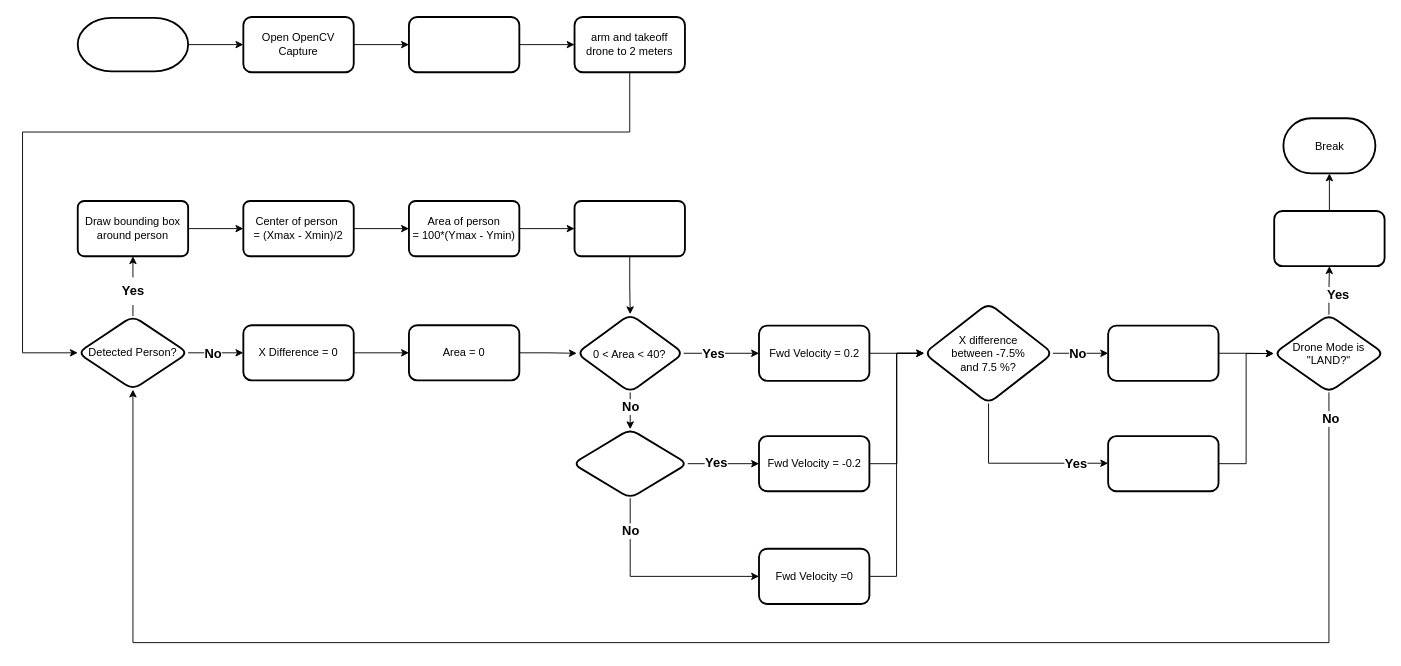
This 1401x666 diagram has some shape labels left out. Here are the shapes that lost their labels. From the top down, the centre of each, then its label:
At point (132, 44): "Connect to drone on /dev/ttyAMA0".
At point (464, 44): "Load model, initialize tracking".
At point (629, 228): "Find X difference (0.5-Center X coord.)".
At point (1329, 238): "Yaw Movement = 0 Velocity = 0".
At point (1163, 352): "Yaw Movement = X Difference".
At point (629, 463): "Area > 50?".
At point (1163, 463): "Yaw Movement = 0".
